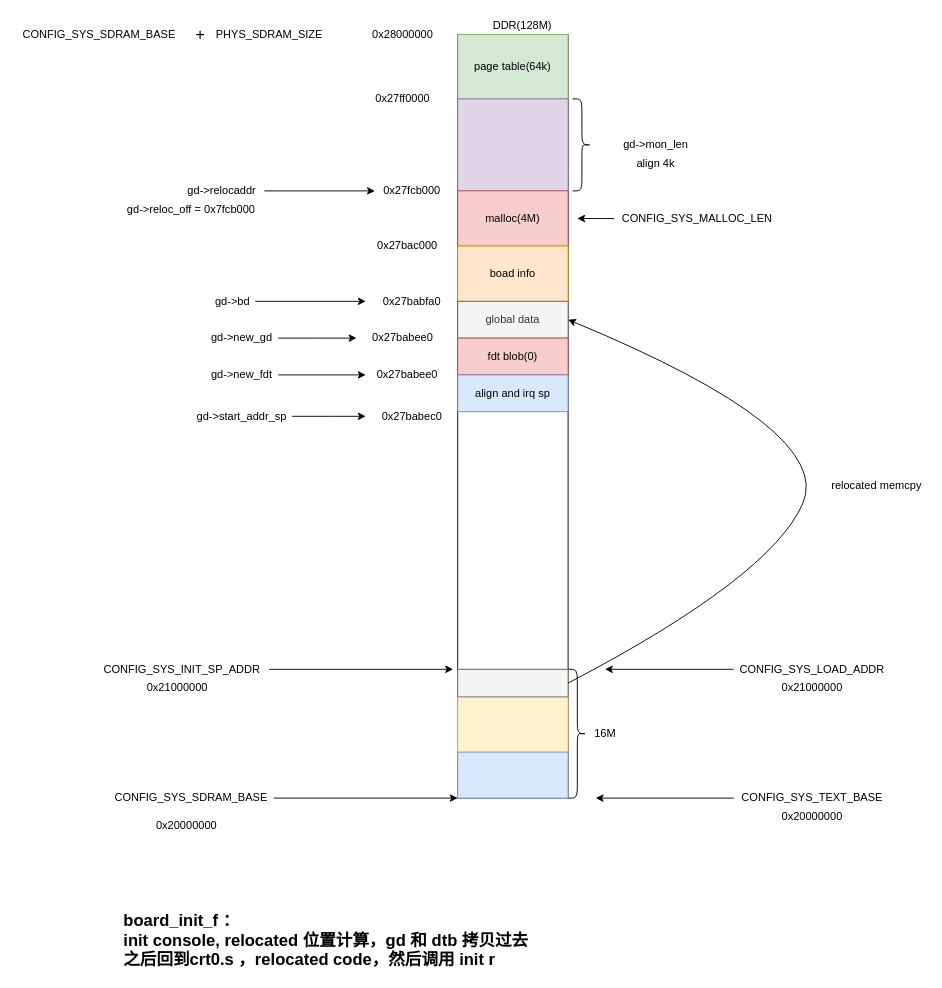
Image size: 942x988. Some labels were removed from this diagram. The centre of each missing label's shape, as x and y in pixels:
init gd: the point at 512,682
relocated: the point at 512,144
uboot code/data/bss: the point at 512,774
